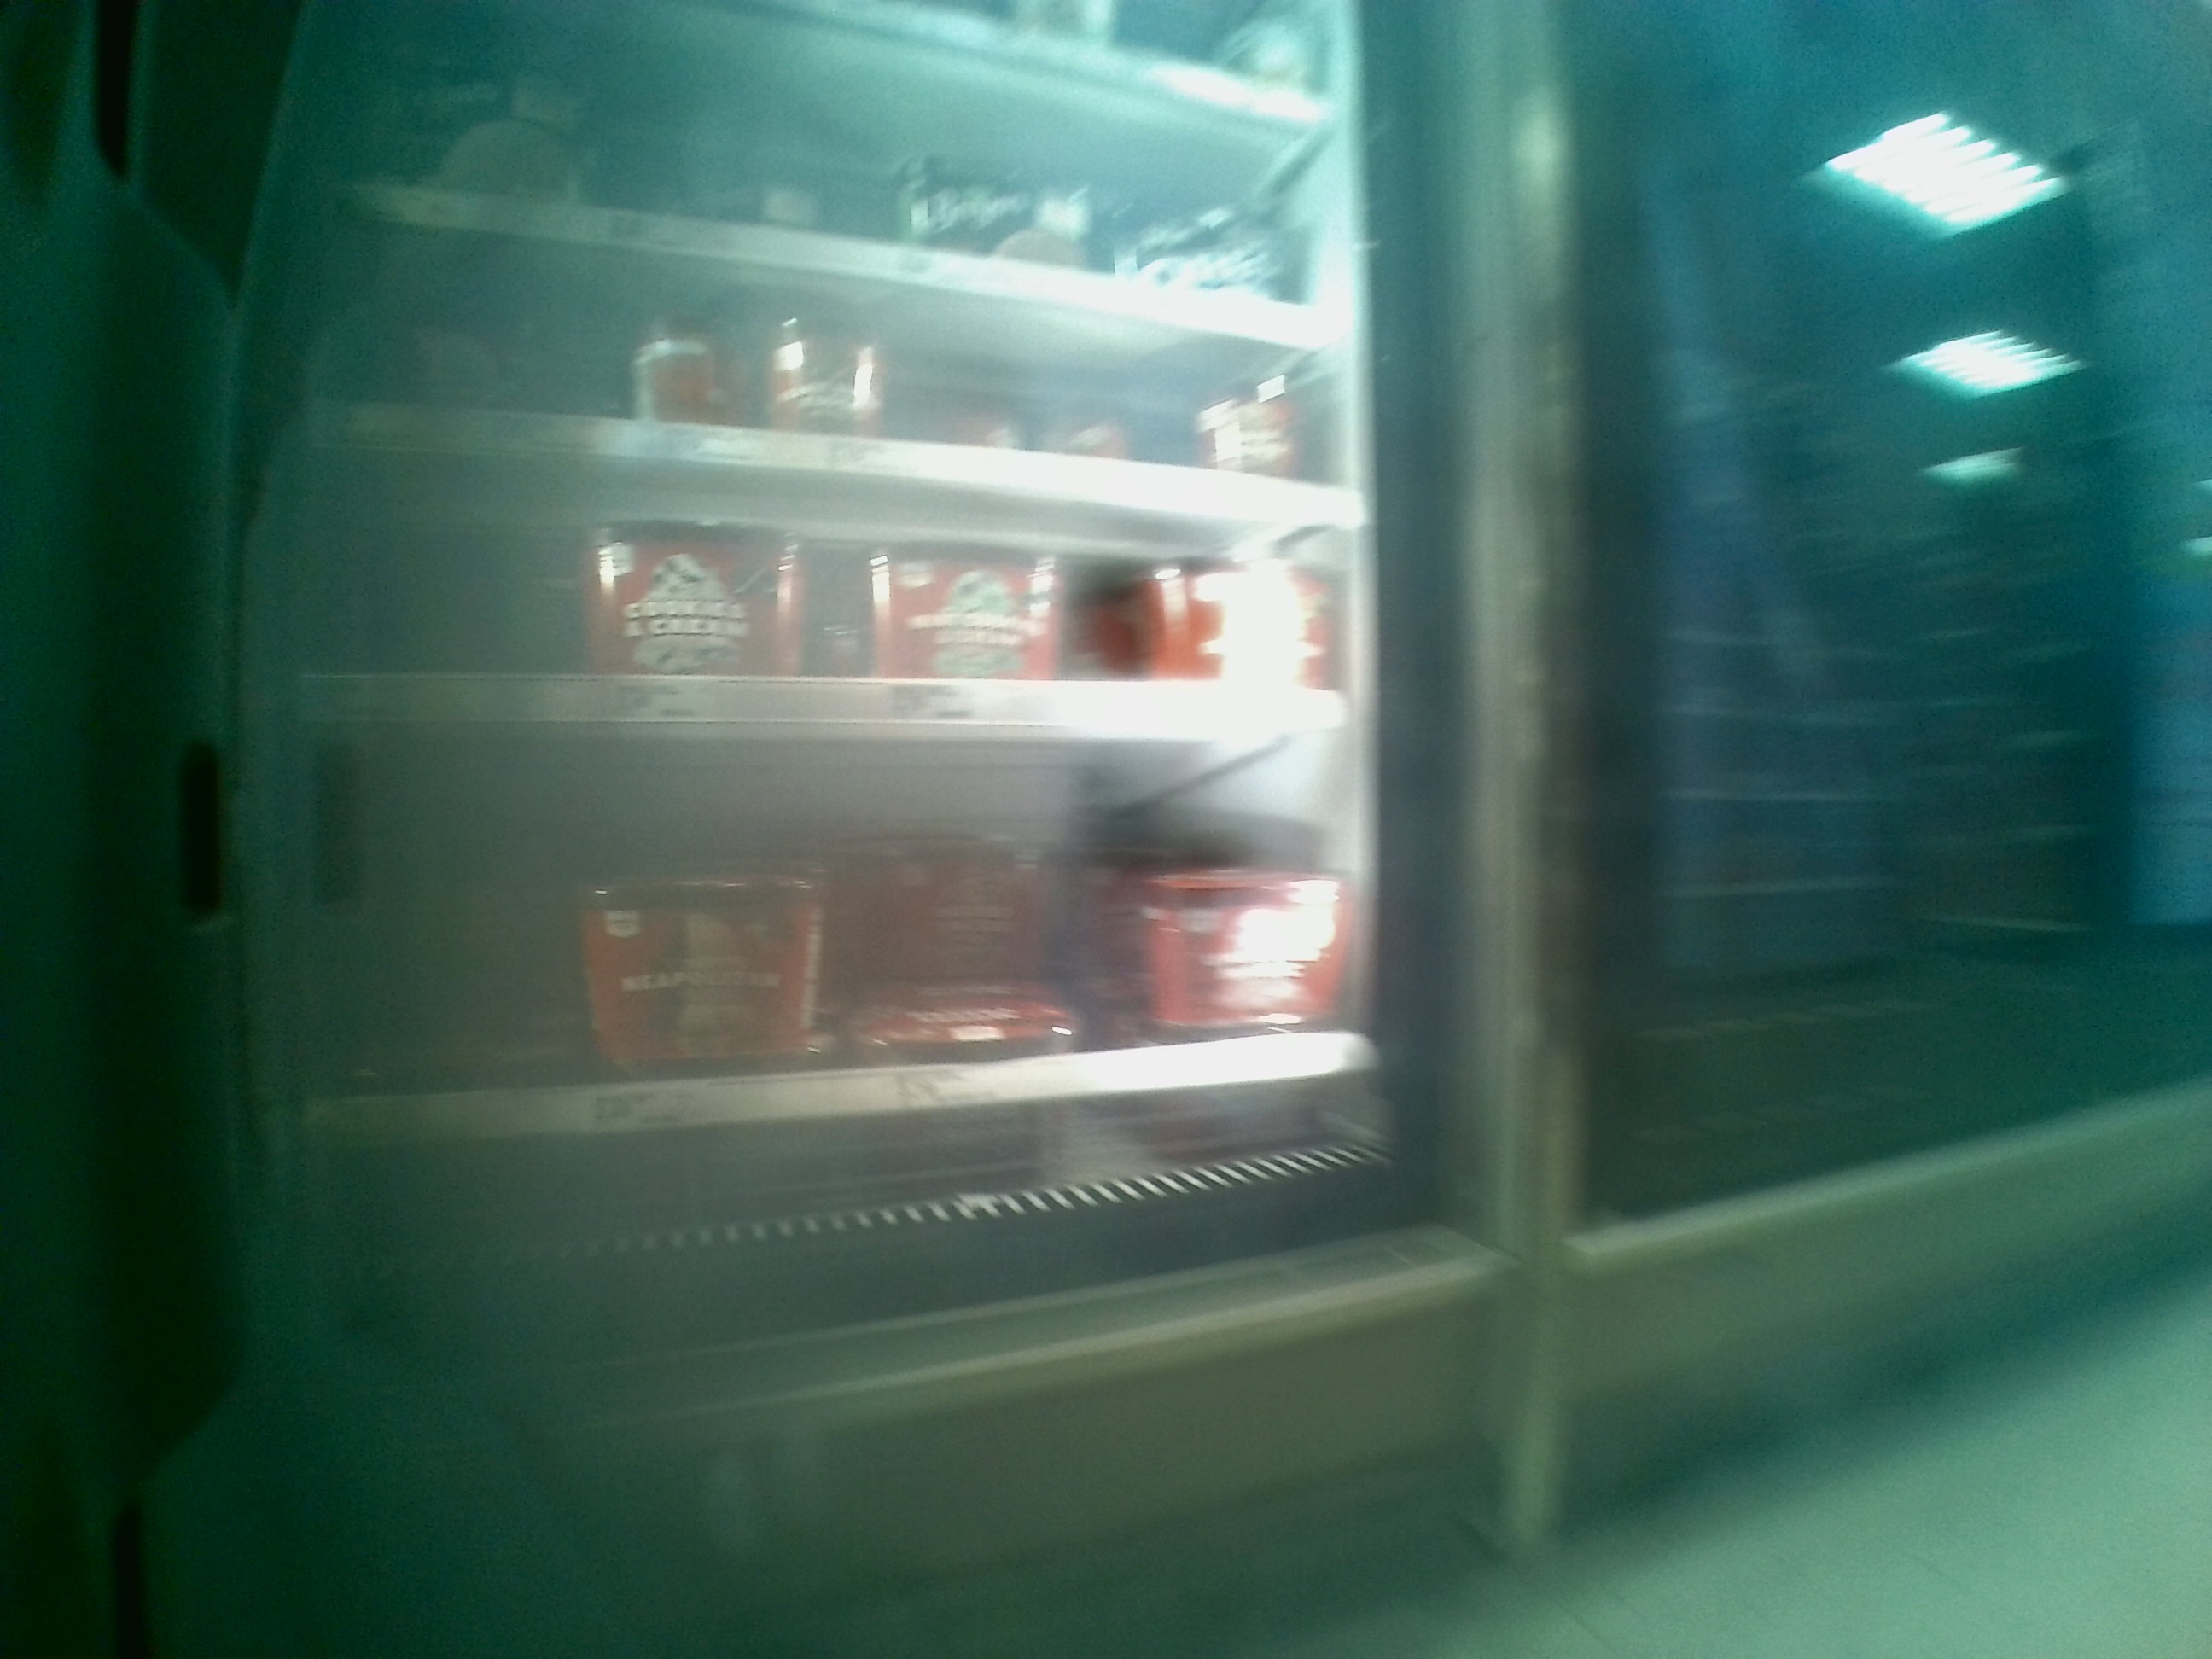shelf: (291, 734, 1406, 1201), (296, 216, 1367, 518), (280, 457, 1388, 739)
